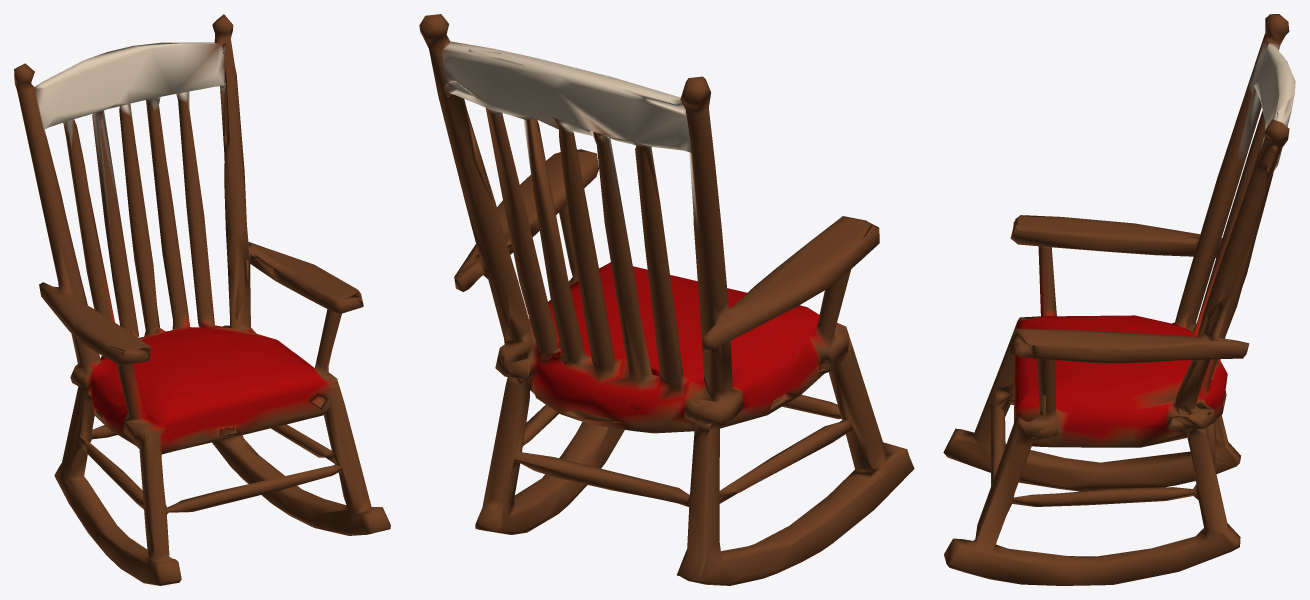
The model's file is gen3d-rocking-chair-lod0.glb.
3 renders of one model, left to right at view 1: azimuth 30°, elevation 25°; view 2: azimuth 150°, elevation 25°; view 3: azimuth 270°, elevation 25°, orthographic. The views are drawn at different scales.
Parts seen in each view (by area): view 1: part_0; view 2: part_0; view 3: part_0.
Boxes of the visible parts, x1,y1,x2,y2 form: part_0: (14, 14, 390, 585); part_0: (419, 14, 914, 585); part_0: (943, 14, 1295, 585).
Bounding box in the file's own units: 0.5974 × 0.9973 × 0.6804.
